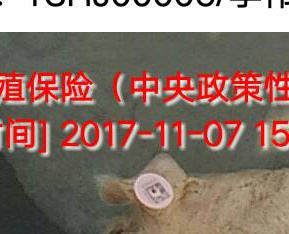text: (124, 166, 187, 217)
